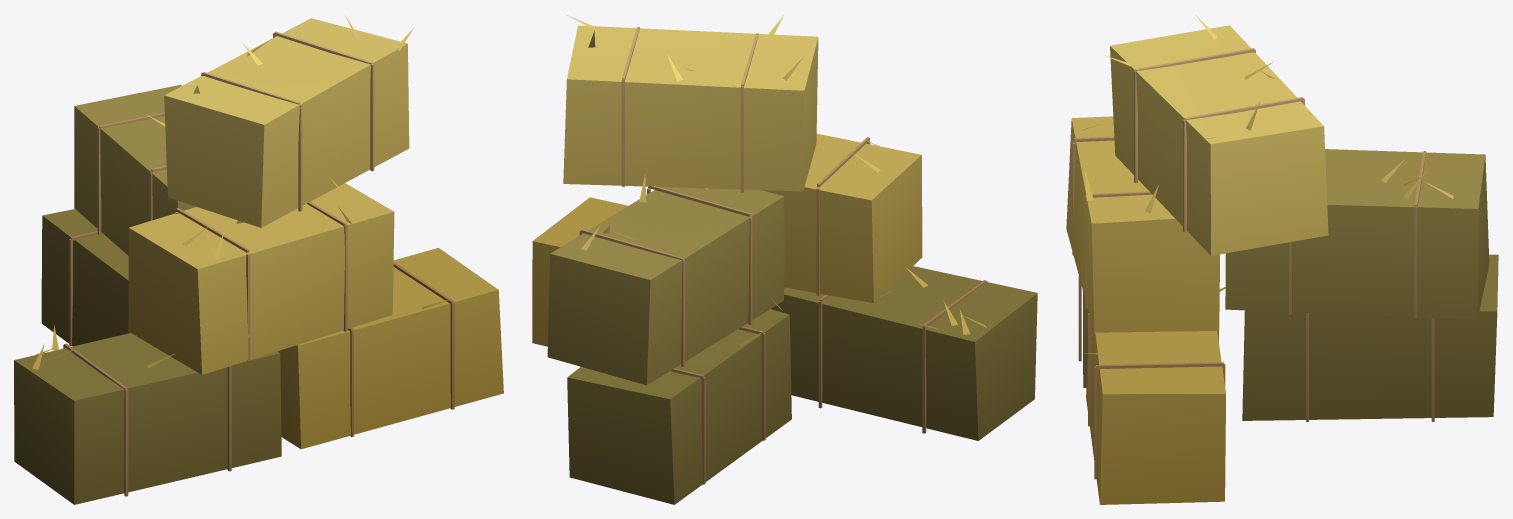
The model's file is HayBale_Stack.fbx.
The picture shows the model from 3 angles, left to right: view 1: azimuth 30°, elevation 25°; view 2: azimuth 150°, elevation 25°; view 3: azimuth 270°, elevation 25°; orthographic projection. The views are drawn at different scales.
Parts seen in each view (by area): view 1: HayBale_Stack_LOD0; view 2: HayBale_Stack_LOD0; view 3: HayBale_Stack_LOD0.
Boxes of the visible parts, x1=… form: HayBale_Stack_LOD0: x1=14, y1=14, x2=503, y2=504; HayBale_Stack_LOD0: x1=532, y1=14, x2=1037, y2=504; HayBale_Stack_LOD0: x1=1066, y1=14, x2=1498, y2=504.
Size of what is drawn, in the model's own units: 2.12 by 1.6 by 1.72.
Materials: 1 (1 with a texture image).
